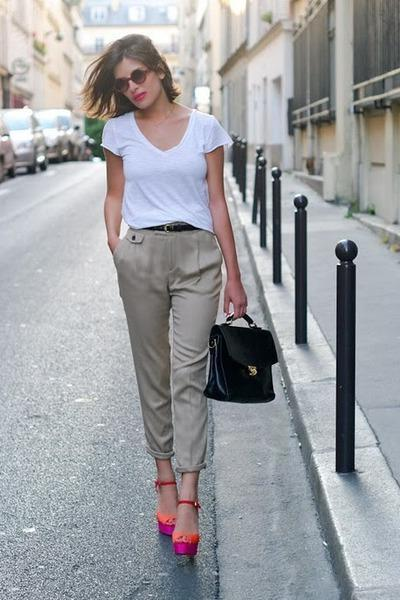short sleeve shirt: (94, 109, 234, 237)
trousers: (113, 228, 227, 465)
